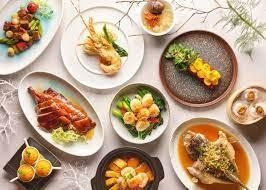Braised Crucian Carp: (17, 71, 103, 157), (60, 4, 142, 90), (167, 117, 262, 190), (159, 29, 237, 107), (0, 0, 63, 76), (0, 131, 71, 189), (108, 82, 169, 144), (90, 146, 165, 189)
